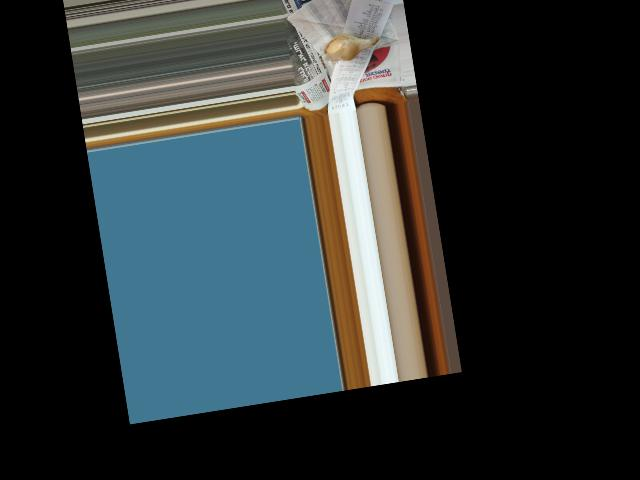onion: (323, 30, 375, 61)
